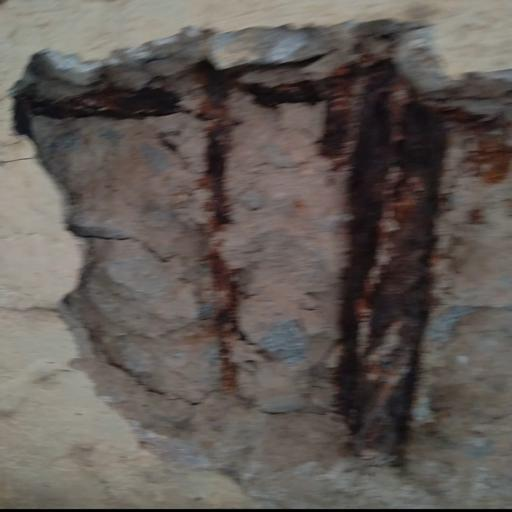spalling: (35, 25, 512, 512)
